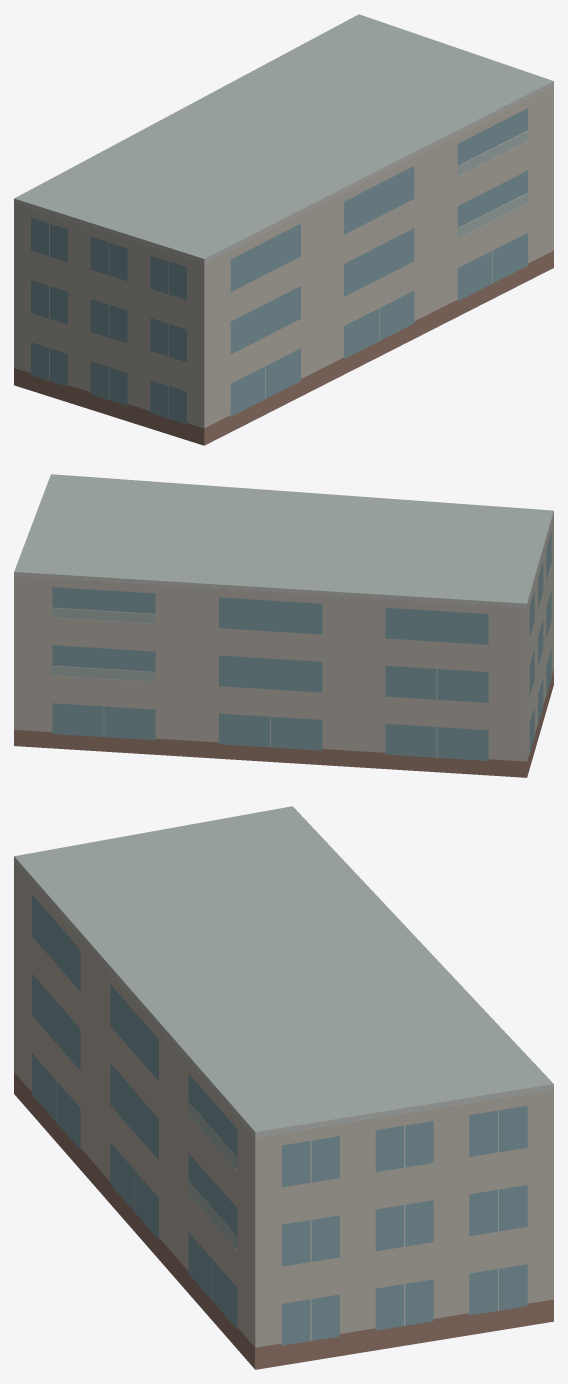
The model's file is survey-upis-32856668.glb.
3 views of the same model, one above another, from view 1: azimuth 30°, elevation 25°; view 2: azimuth 150°, elevation 25°; view 3: azimuth 270°, elevation 25° (orthographic). The views are drawn at different scales.
Parts seen in each view (by area): view 1: survey-upis-32856668.tmp; view 2: survey-upis-32856668.tmp; view 3: survey-upis-32856668.tmp.
Part boxes in pixels (box(x1,y1,x2,y2)): survey-upis-32856668.tmp: box(14, 14, 553, 445); survey-upis-32856668.tmp: box(14, 474, 553, 777); survey-upis-32856668.tmp: box(14, 806, 553, 1369).
Size of the model in its own units: 29.44 by 10 by 20.6.
